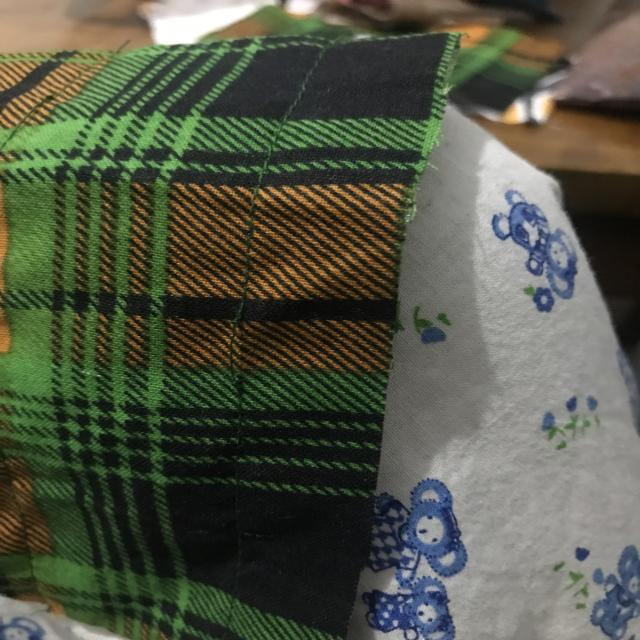skip: (209, 291, 259, 398)
